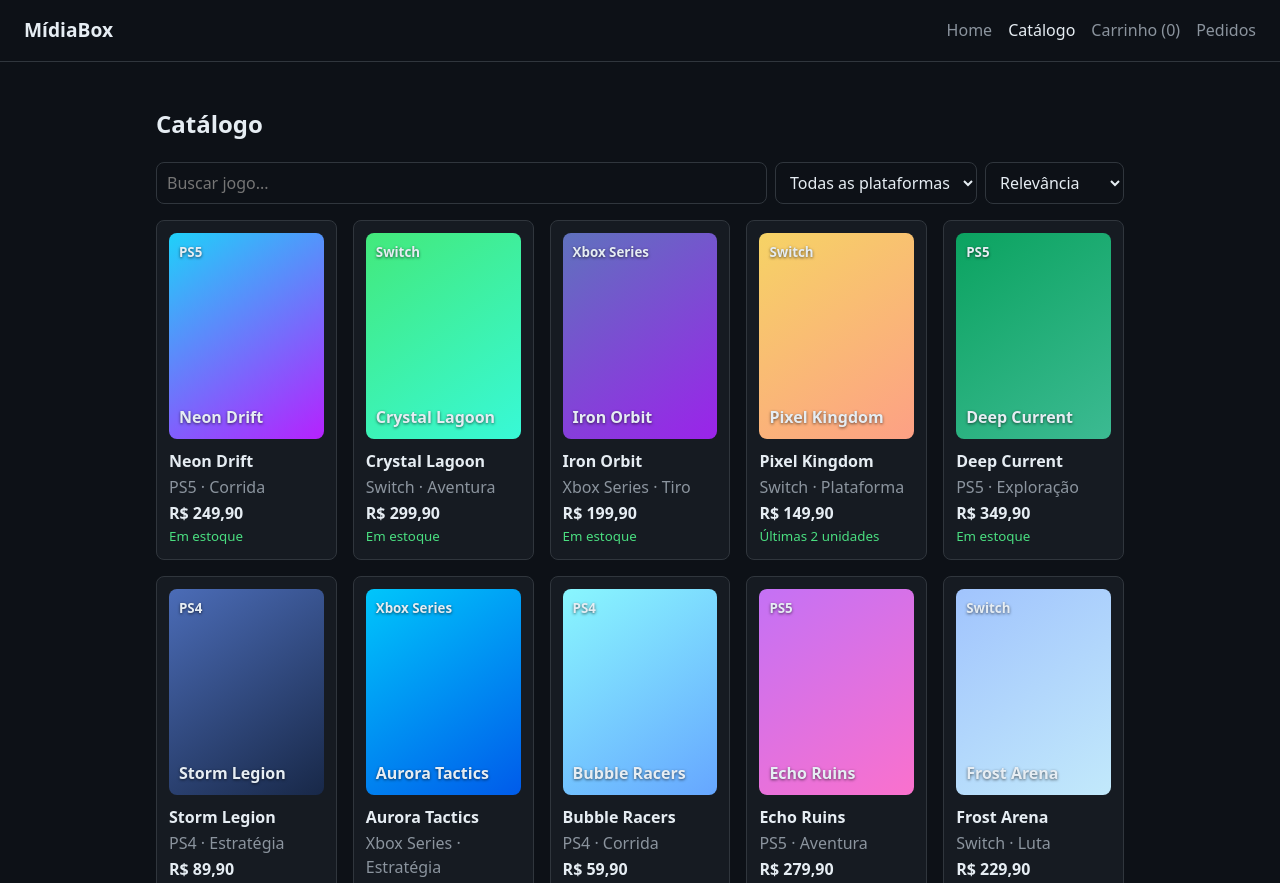
Test: página Catálogo › filtro de plataforma e busca sem resultado
The image size is (1280, 883).
Step 1. Select "Switch" in the dropdown named "Plataforma" → {"x": 876, "y": 183}, box [775,162,977,204]
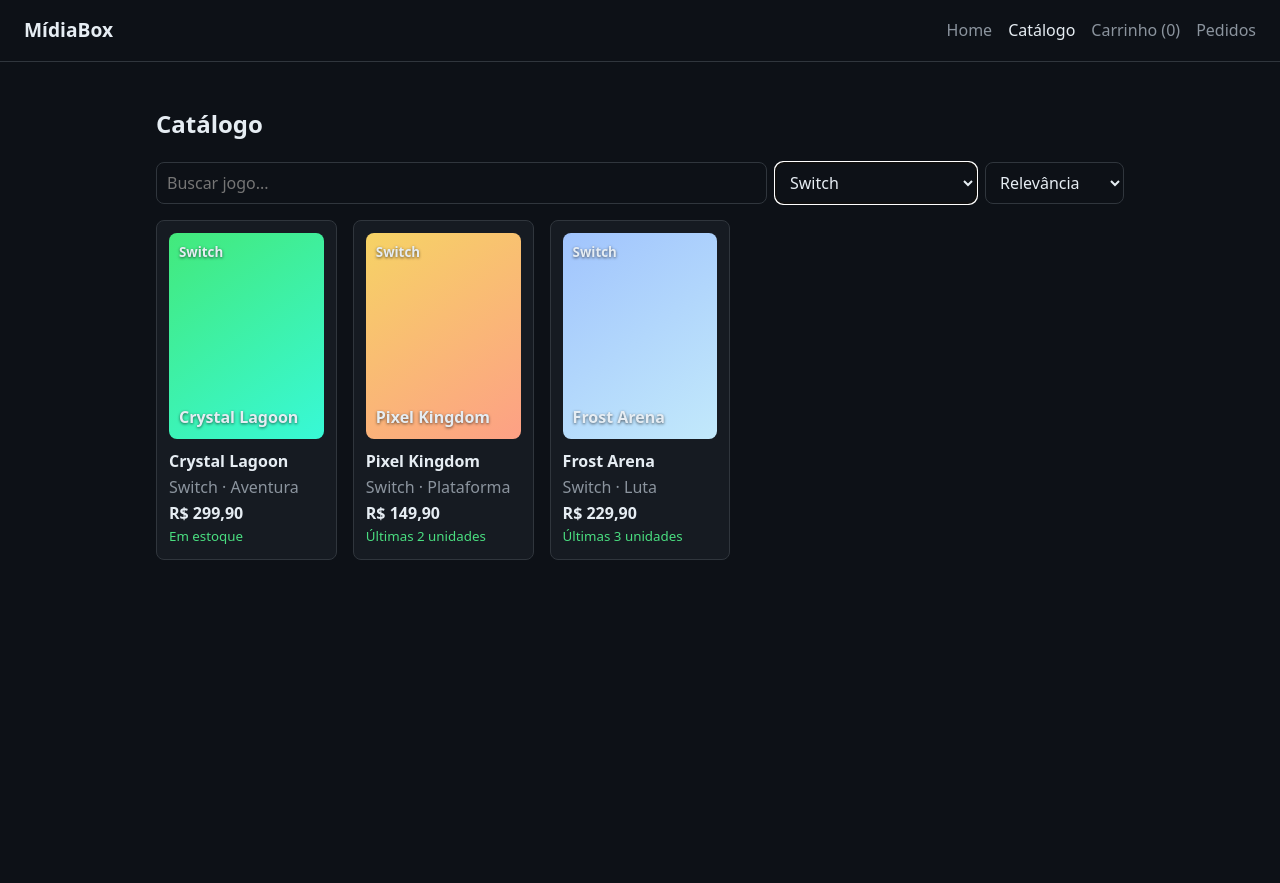
Step 2. Type "zelda" into the field with placeholder "Buscar jogo..." → {"x": 462, "y": 183}, box [156,162,767,204]
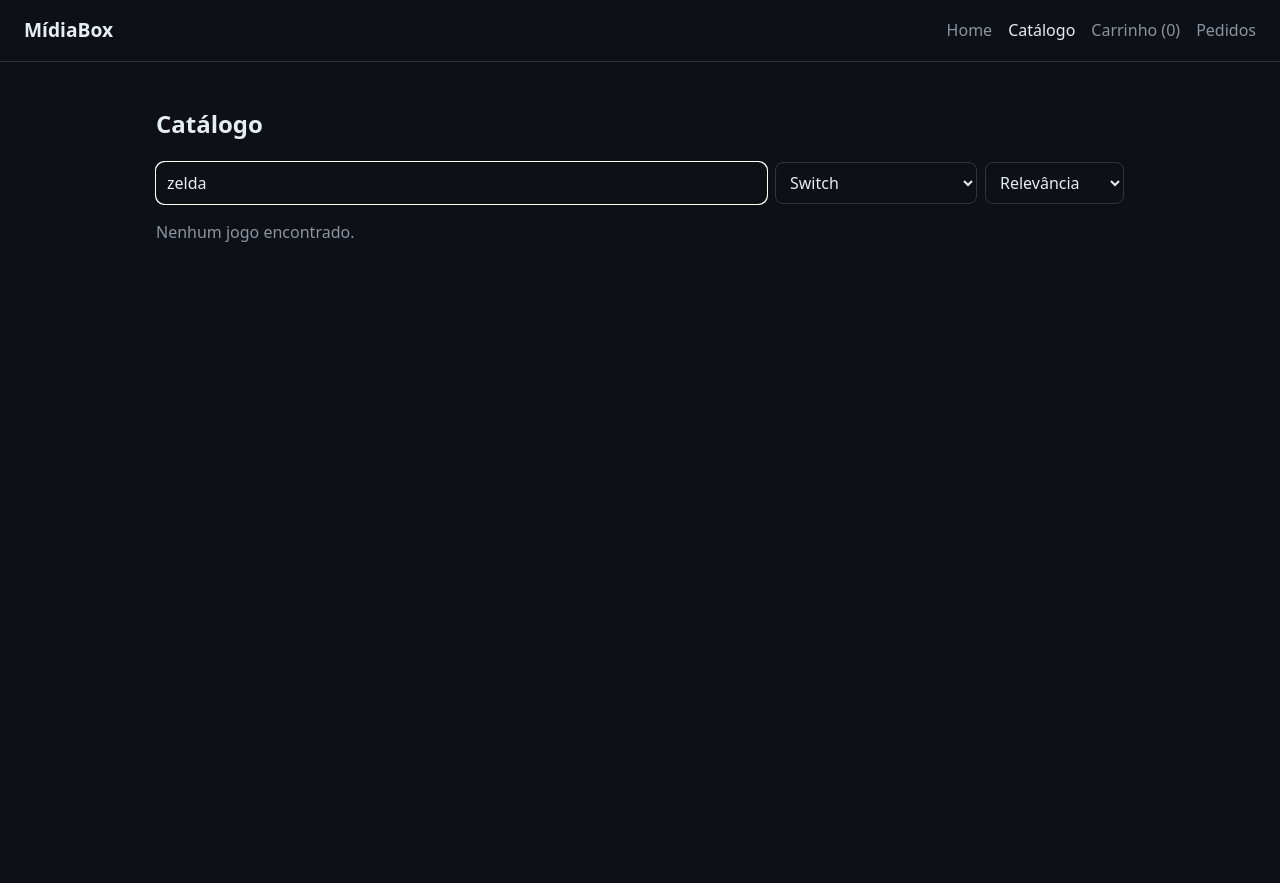
Result: the text "Nenhum jogo encontrado." is shown at [156,221,354,243]
